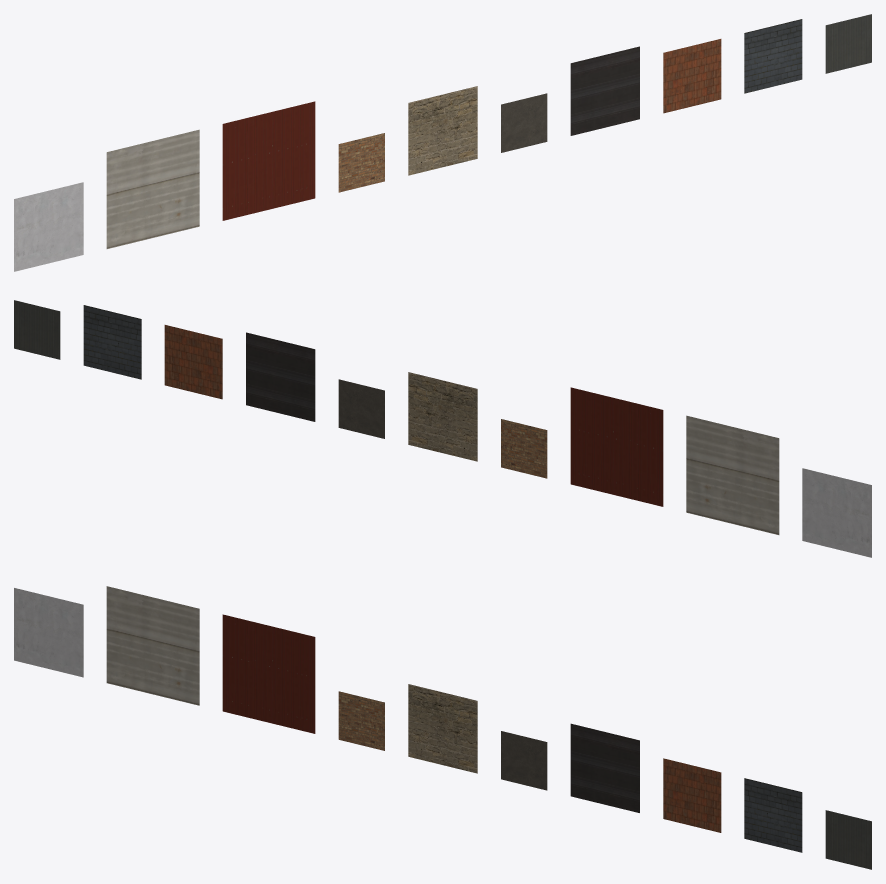
The model's file is building-mass.glb.
3 renders of one model, top to bottom at view 1: azimuth 30°, elevation 25°; view 2: azimuth 150°, elevation 25°; view 3: azimuth 330°, elevation 25°, orthographic.
Visible parts, largest first — view 1: mass-concrete, mass-metal, mass-stone, mass-roof-flat, mass-plaster, mass-roof-grey, mass-roof-red, mass-brick, mass-plinth, mass-roof-metal; view 2: mass-concrete, mass-metal, mass-stone, mass-roof-flat, mass-plaster, mass-roof-grey, mass-roof-red, mass-brick, mass-plinth, mass-roof-metal; view 3: mass-concrete, mass-metal, mass-stone, mass-plaster, mass-roof-flat, mass-roof-red, mass-roof-grey, mass-brick, mass-plinth, mass-roof-metal.
Part boxes in pixels (x1,y1,x2,y2): mass-concrete: [106, 129, 199, 248]; mass-metal: [222, 101, 315, 220]; mass-stone: [408, 86, 477, 175]; mass-roof-flat: [570, 46, 639, 135]; mass-plaster: [14, 182, 83, 271]; mass-roof-grey: [744, 19, 802, 93]; mass-roof-red: [663, 39, 721, 113]; mass-brick: [338, 133, 384, 192]; mass-plinth: [501, 93, 547, 152]; mass-roof-metal: [825, 14, 871, 73]; mass-concrete: [686, 415, 779, 534]; mass-metal: [570, 387, 663, 506]; mass-stone: [408, 372, 477, 461]; mass-roof-flat: [246, 332, 315, 421]; mass-plaster: [802, 468, 871, 557]; mass-roof-grey: [83, 305, 141, 379]; mass-roof-red: [164, 325, 222, 399]; mass-brick: [501, 419, 547, 478]; mass-plinth: [338, 379, 384, 438]; mass-roof-metal: [14, 300, 60, 359]; mass-concrete: [106, 586, 199, 705]; mass-metal: [222, 614, 315, 733]; mass-stone: [408, 684, 477, 773]; mass-plaster: [14, 588, 83, 677]; mass-roof-flat: [570, 723, 639, 812]; mass-roof-red: [663, 758, 721, 832]; mass-roof-grey: [744, 778, 802, 852]; mass-brick: [338, 691, 384, 750]; mass-plinth: [501, 731, 547, 790]; mass-roof-metal: [825, 810, 871, 869].
Bounding box in the file's own units: 37 × 4 × 0.
10 materials, 10 textured.
